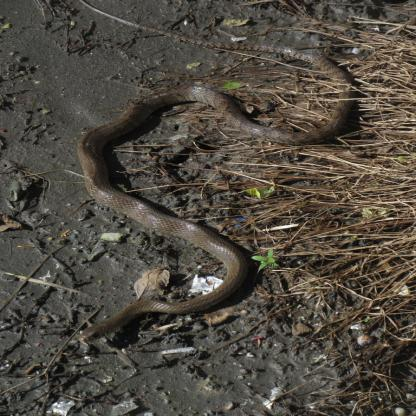Snake: (70, 77, 256, 350)
